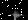person: (6, 9, 27, 20)
